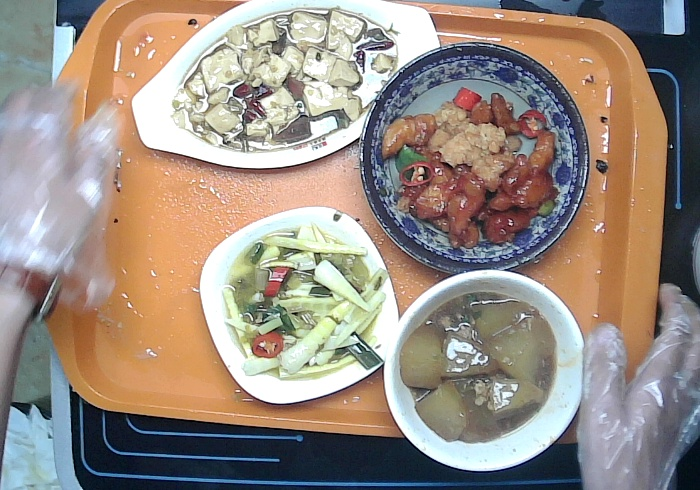ZNLD-Qing_Hua_Wan: (356, 39, 593, 275)
ZNLD-Si_Fang_Wan: (200, 204, 401, 410)
ZNLD-Tang_Wan: (383, 269, 583, 472)
ZNLD-Yu_Pan: (129, 1, 449, 170)
